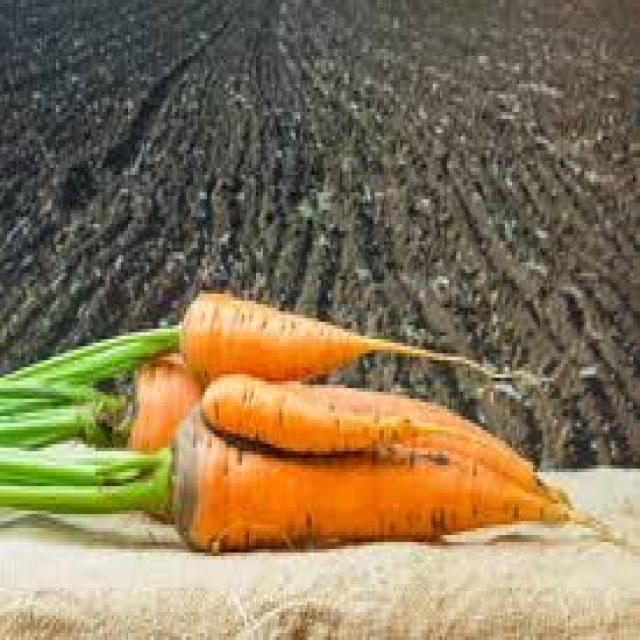Stale_Carrot: (182, 298, 416, 391), (80, 322, 164, 467), (160, 410, 223, 554)
